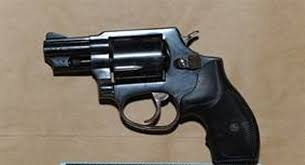gun: (40, 24, 263, 165)
